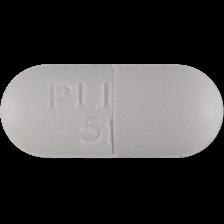50111-518: (0, 0, 224, 224)
